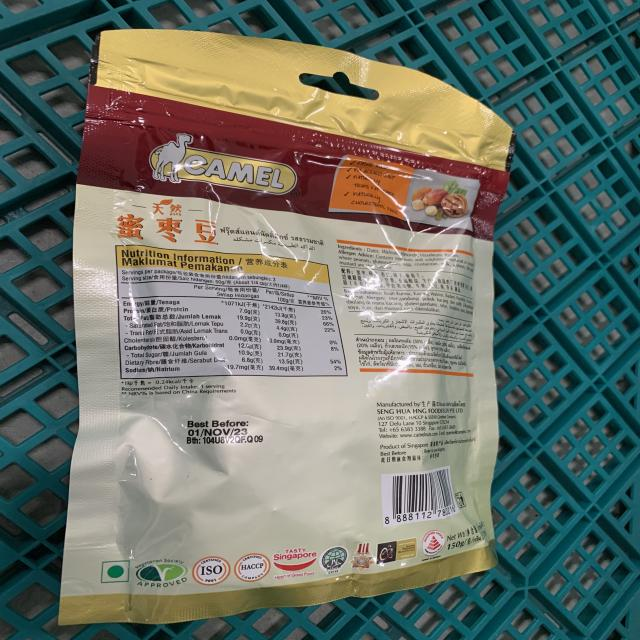object_name: (101, 38, 494, 598)
